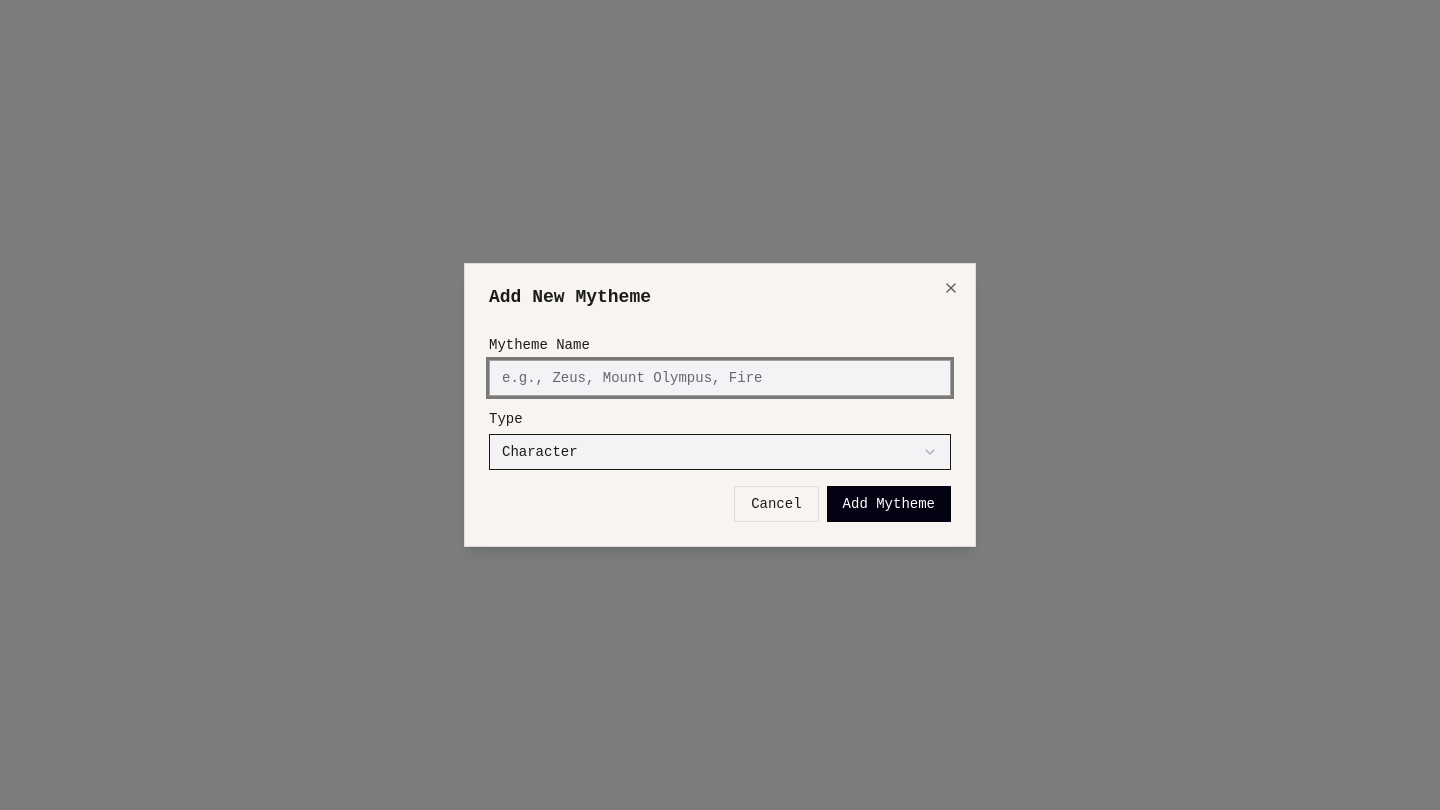
Test case: AddMythemeDialog › shows error message on submission failure
Type "Athena" into the field labelled "Mytheme Name" at (720, 378), box top-left (489, 360), bottom-right (951, 396)
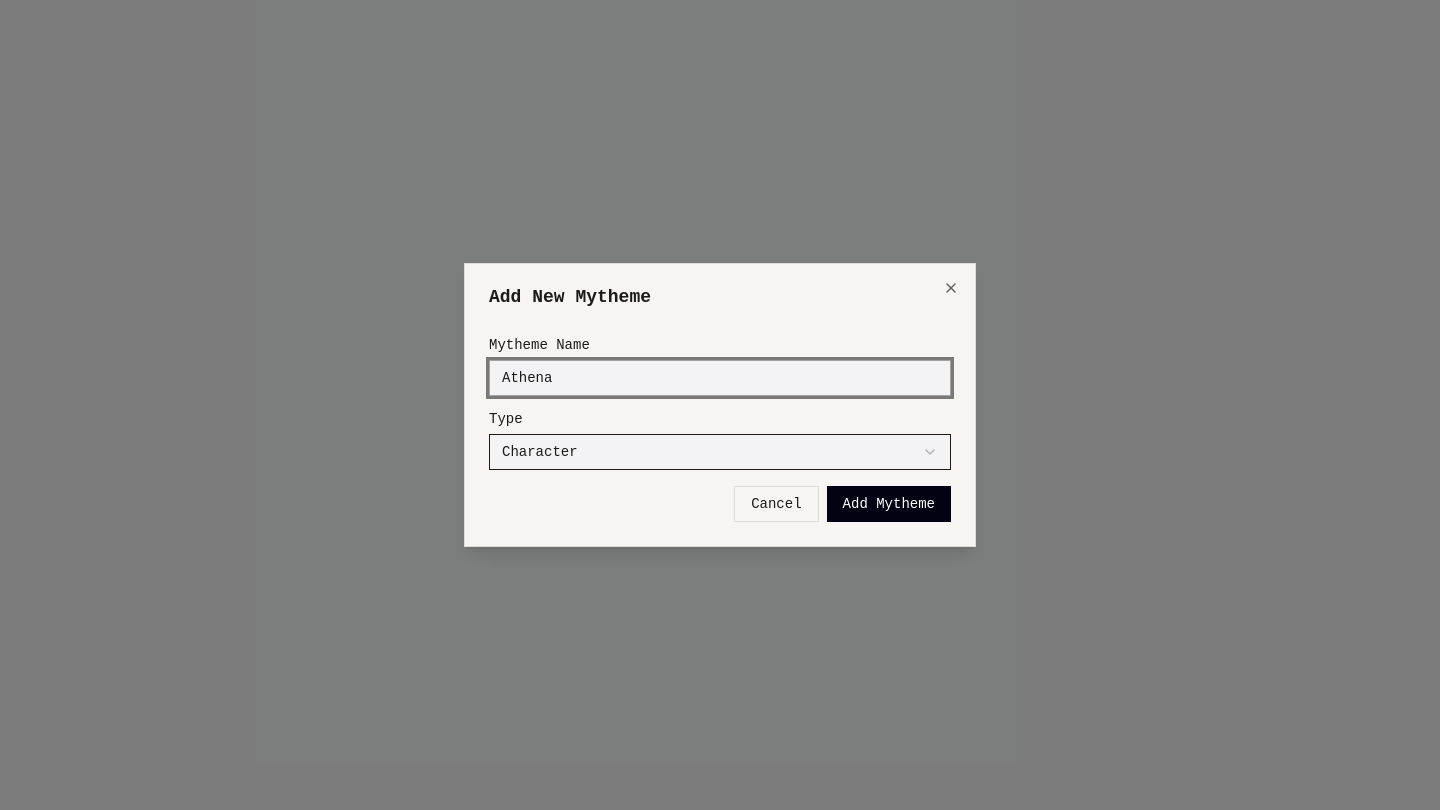
Click the button "Add Mytheme" at (889, 504), box top-left (827, 486), bottom-right (951, 522)
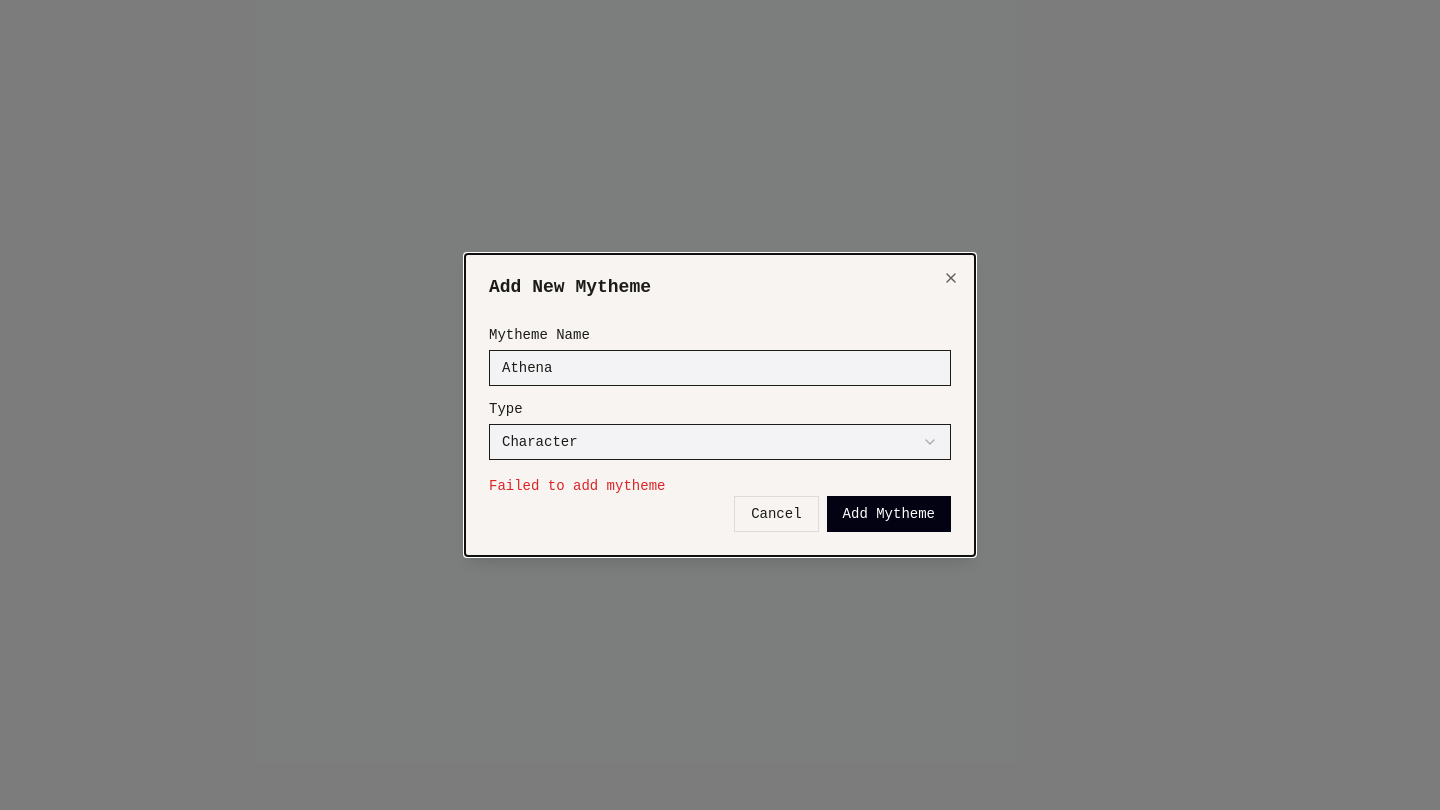
expect the text "Failed to add mytheme" is shown: met, box top-left (489, 478), bottom-right (665, 494)
